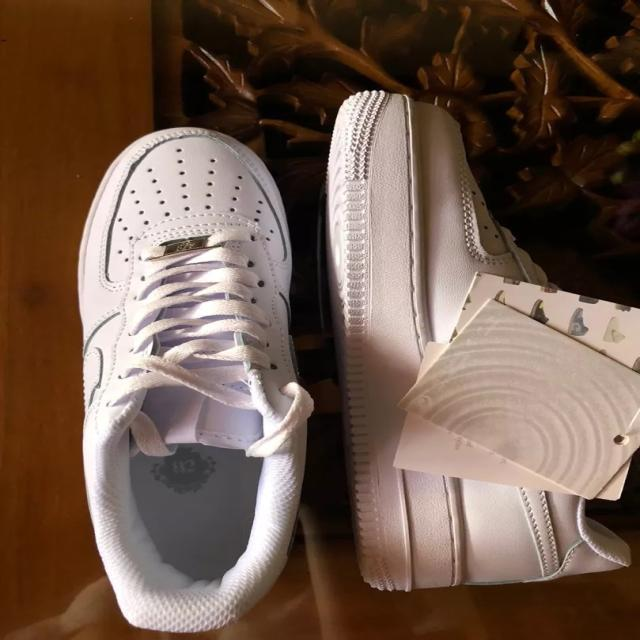nike fake air force: (71, 125, 309, 622)
